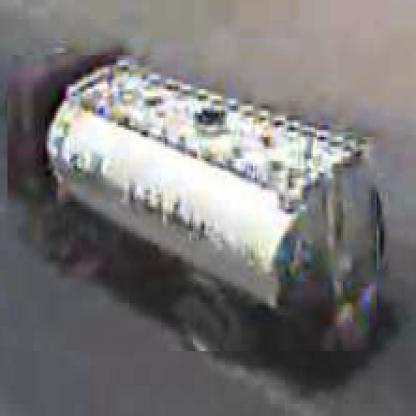truck: (9, 57, 380, 355)
